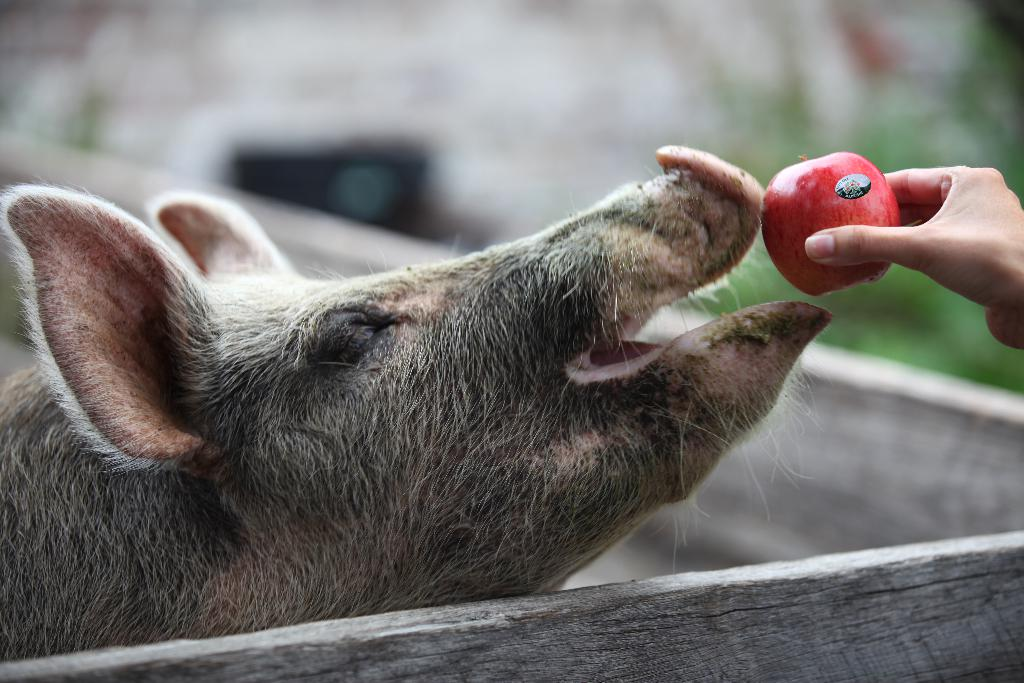Apple: (762, 153, 904, 296)
